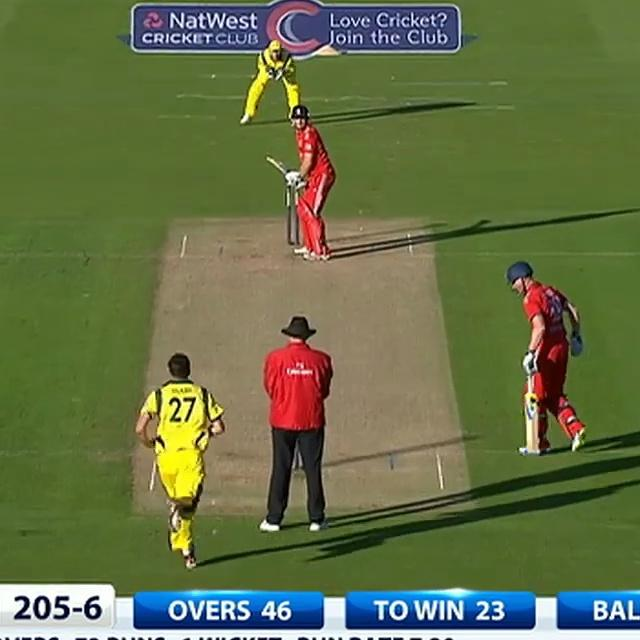umpire: (250, 307, 344, 535)
